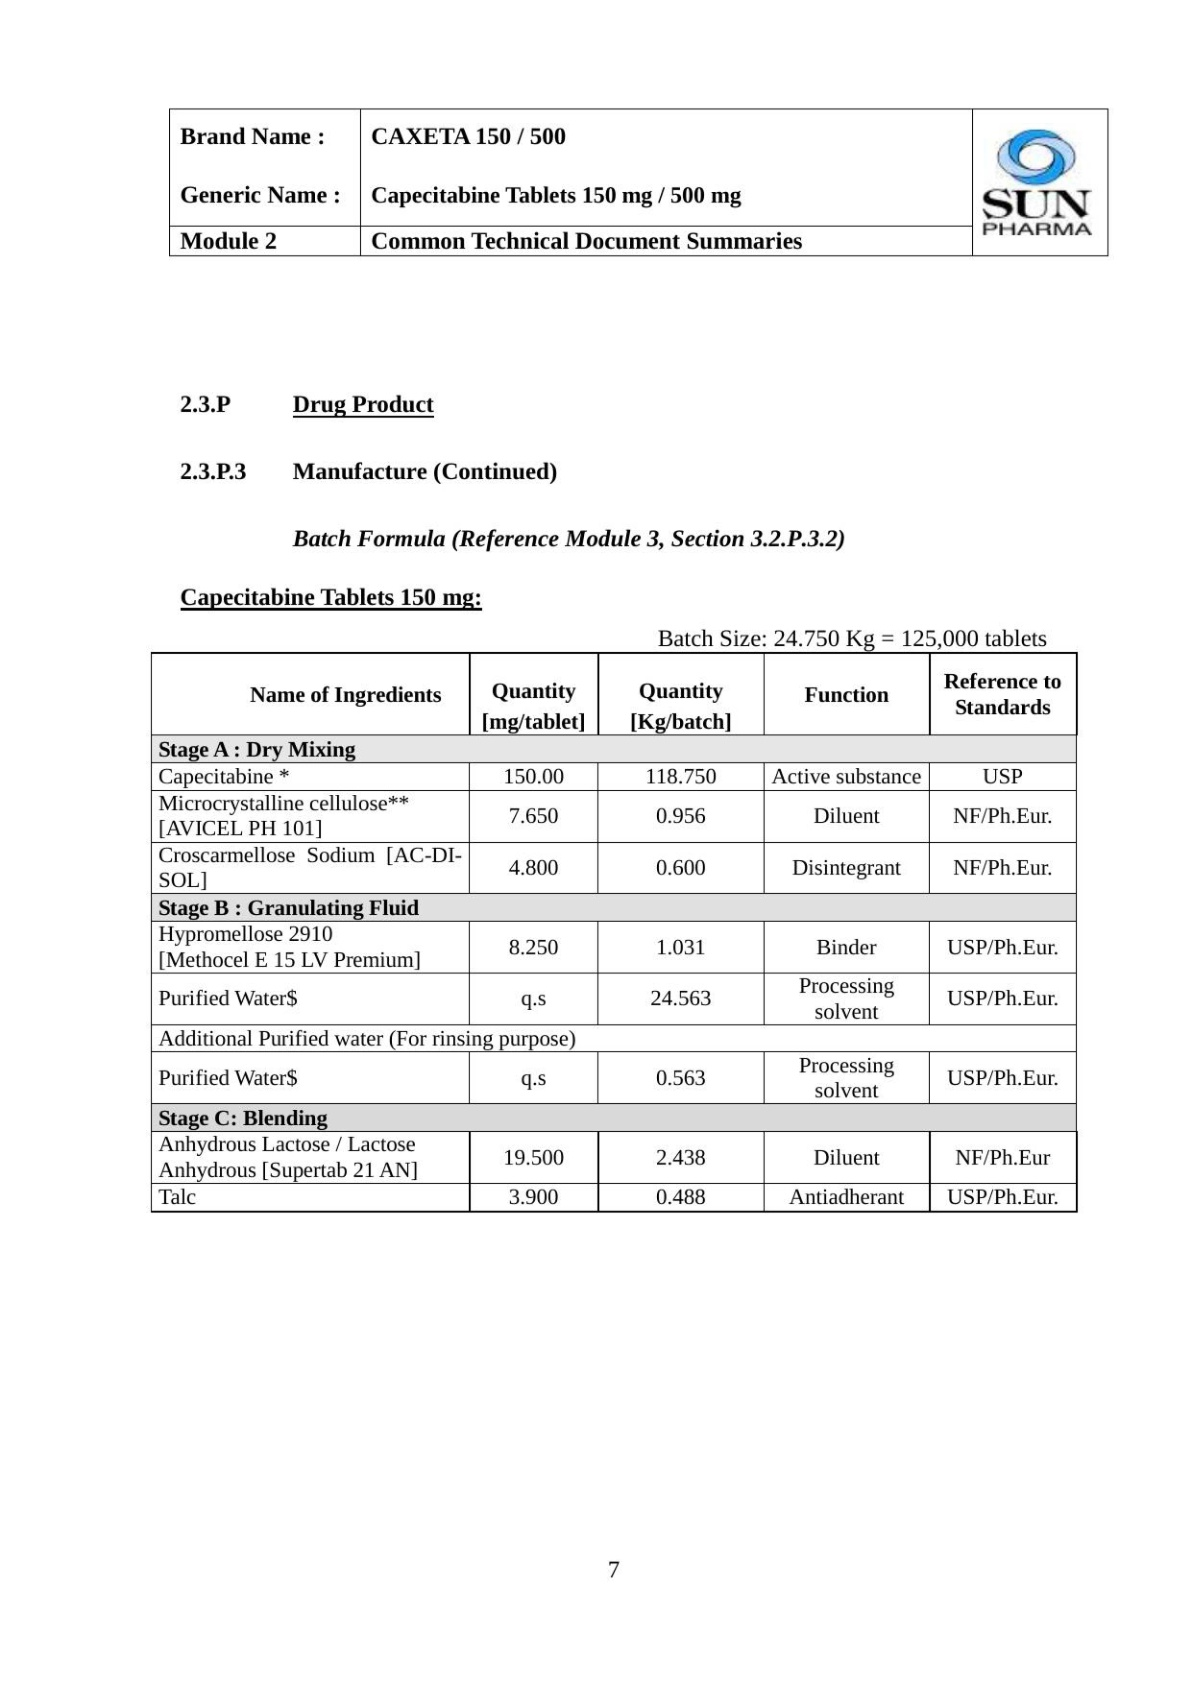merged_cells: (150, 650, 1078, 1213), (166, 106, 1109, 258)
